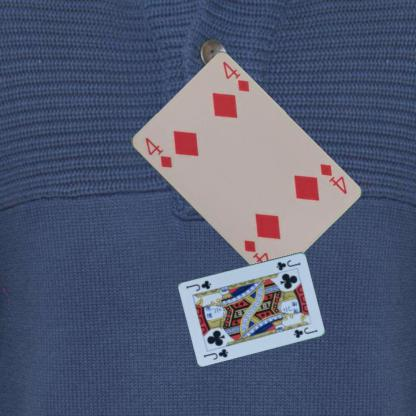4d: (316, 160, 348, 196), (142, 134, 173, 169)
Jc: (201, 346, 229, 361), (274, 257, 301, 272)
